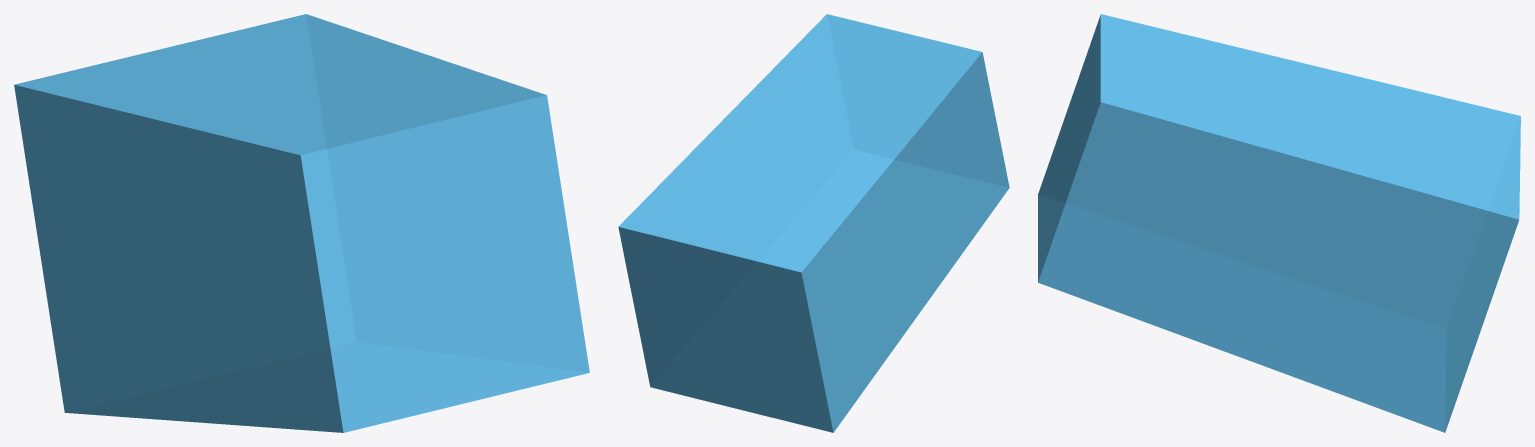
File: Event_420107950_HBrechit_12.fbx
The picture shows the model from 3 angles, left to right: view 1: azimuth 30°, elevation 25°; view 2: azimuth 150°, elevation 25°; view 3: azimuth 270°, elevation 25°; orthographic projection. The views are drawn at different scales.
Parts seen in each view (by area): view 1: Model; view 2: Model; view 3: Model.
Part boxes in pixels (left/top/right/bottom): Model: left=14, top=14, right=589, bottom=432; Model: left=618, top=14, right=1009, bottom=432; Model: left=1038, top=14, right=1520, bottom=432.
Size of the model in its own units: 0.4737 by 0.6692 by 0.9287.
